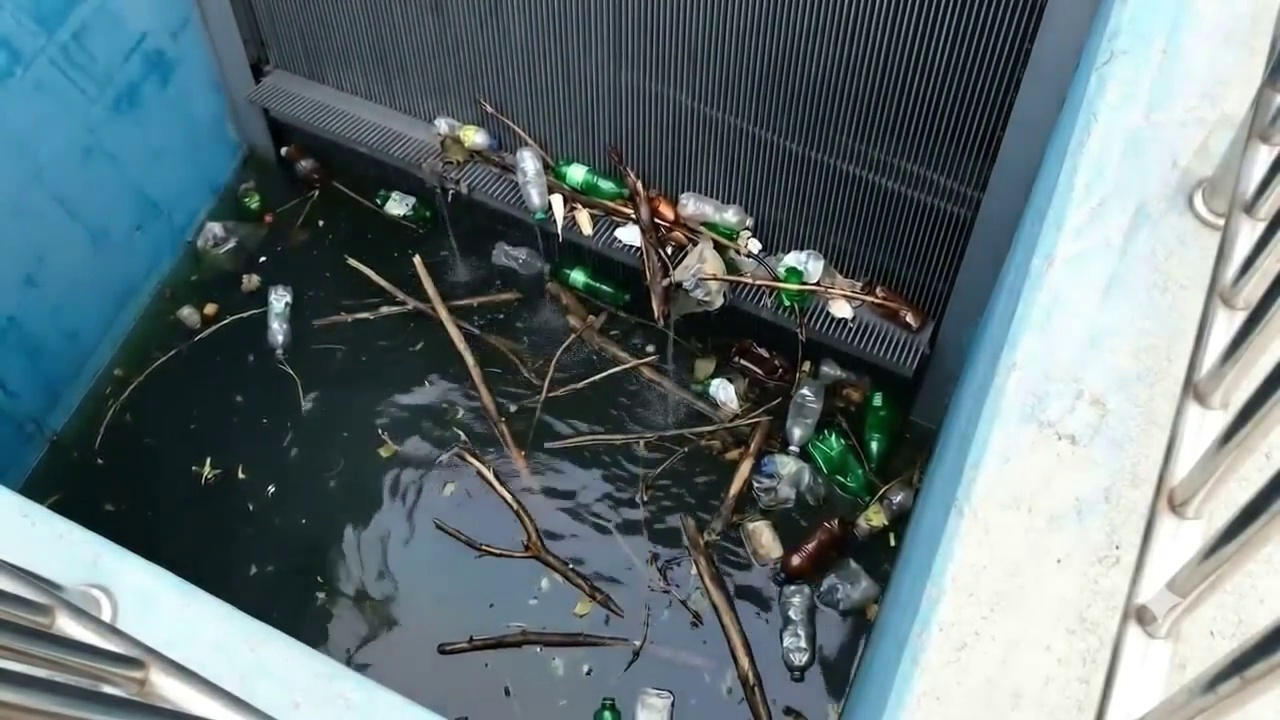debris: (424, 117, 922, 330), (676, 340, 914, 681), (346, 256, 532, 474), (433, 449, 623, 617), (680, 515, 770, 719), (491, 241, 630, 308), (196, 181, 295, 266), (548, 282, 637, 364), (439, 629, 644, 663), (632, 367, 720, 419), (370, 190, 428, 225), (266, 284, 292, 362), (280, 145, 324, 186)
